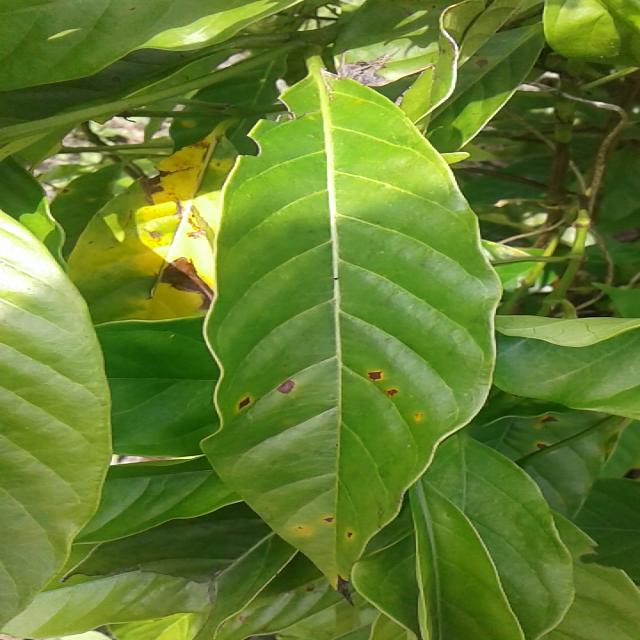Enfermedad-Roya: (194, 60, 502, 582)
